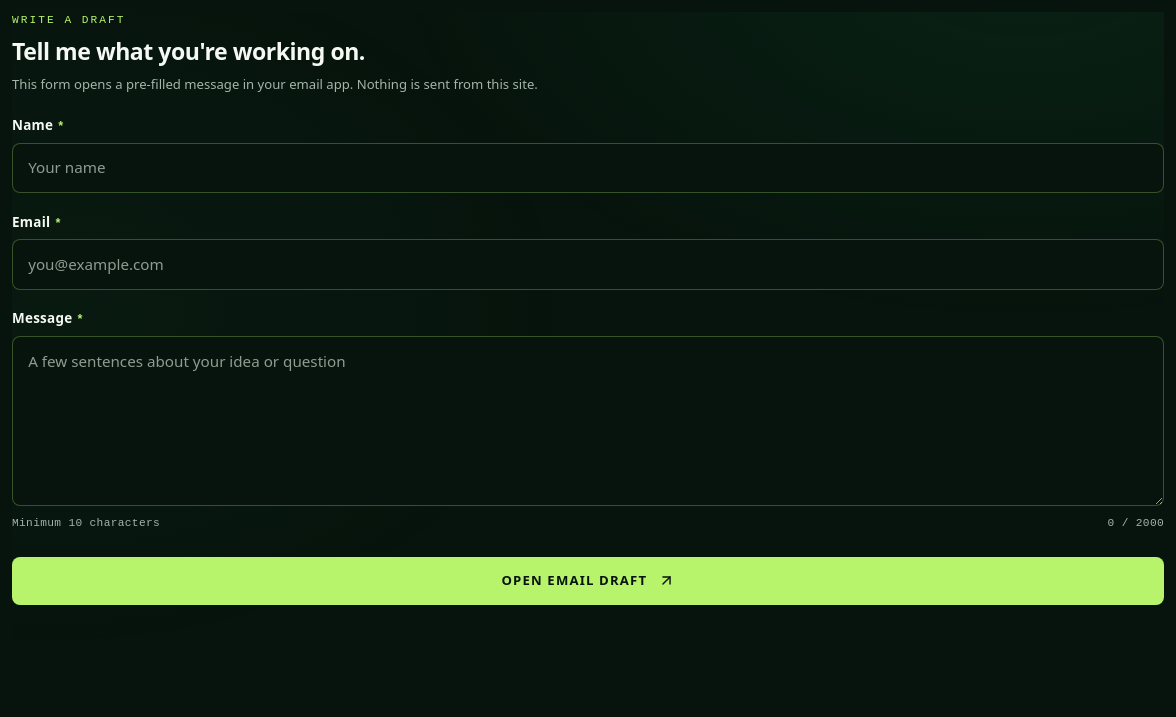
it: contact form validation › shows an inline error summary and focuses the first invalid field
The image size is (1176, 717).
Click the button "Open email draft": x=588, y=581 [12,557,1164,605]
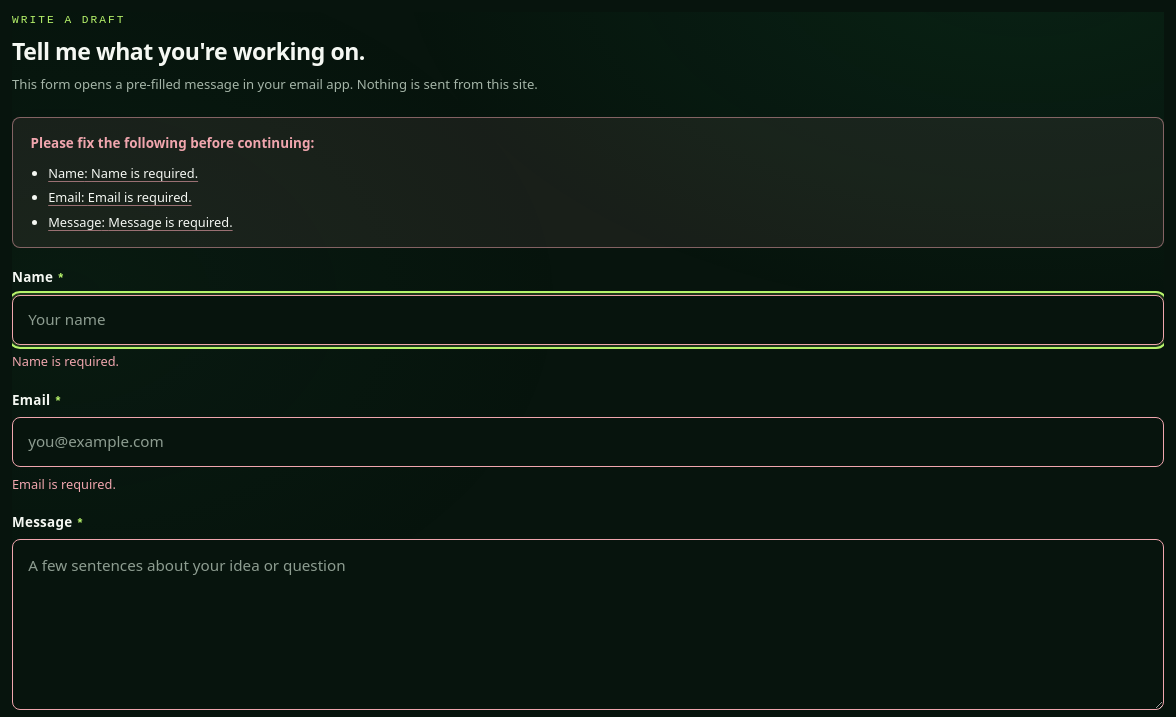
Now the message shows "Name is required", box [48,164,198,182]
